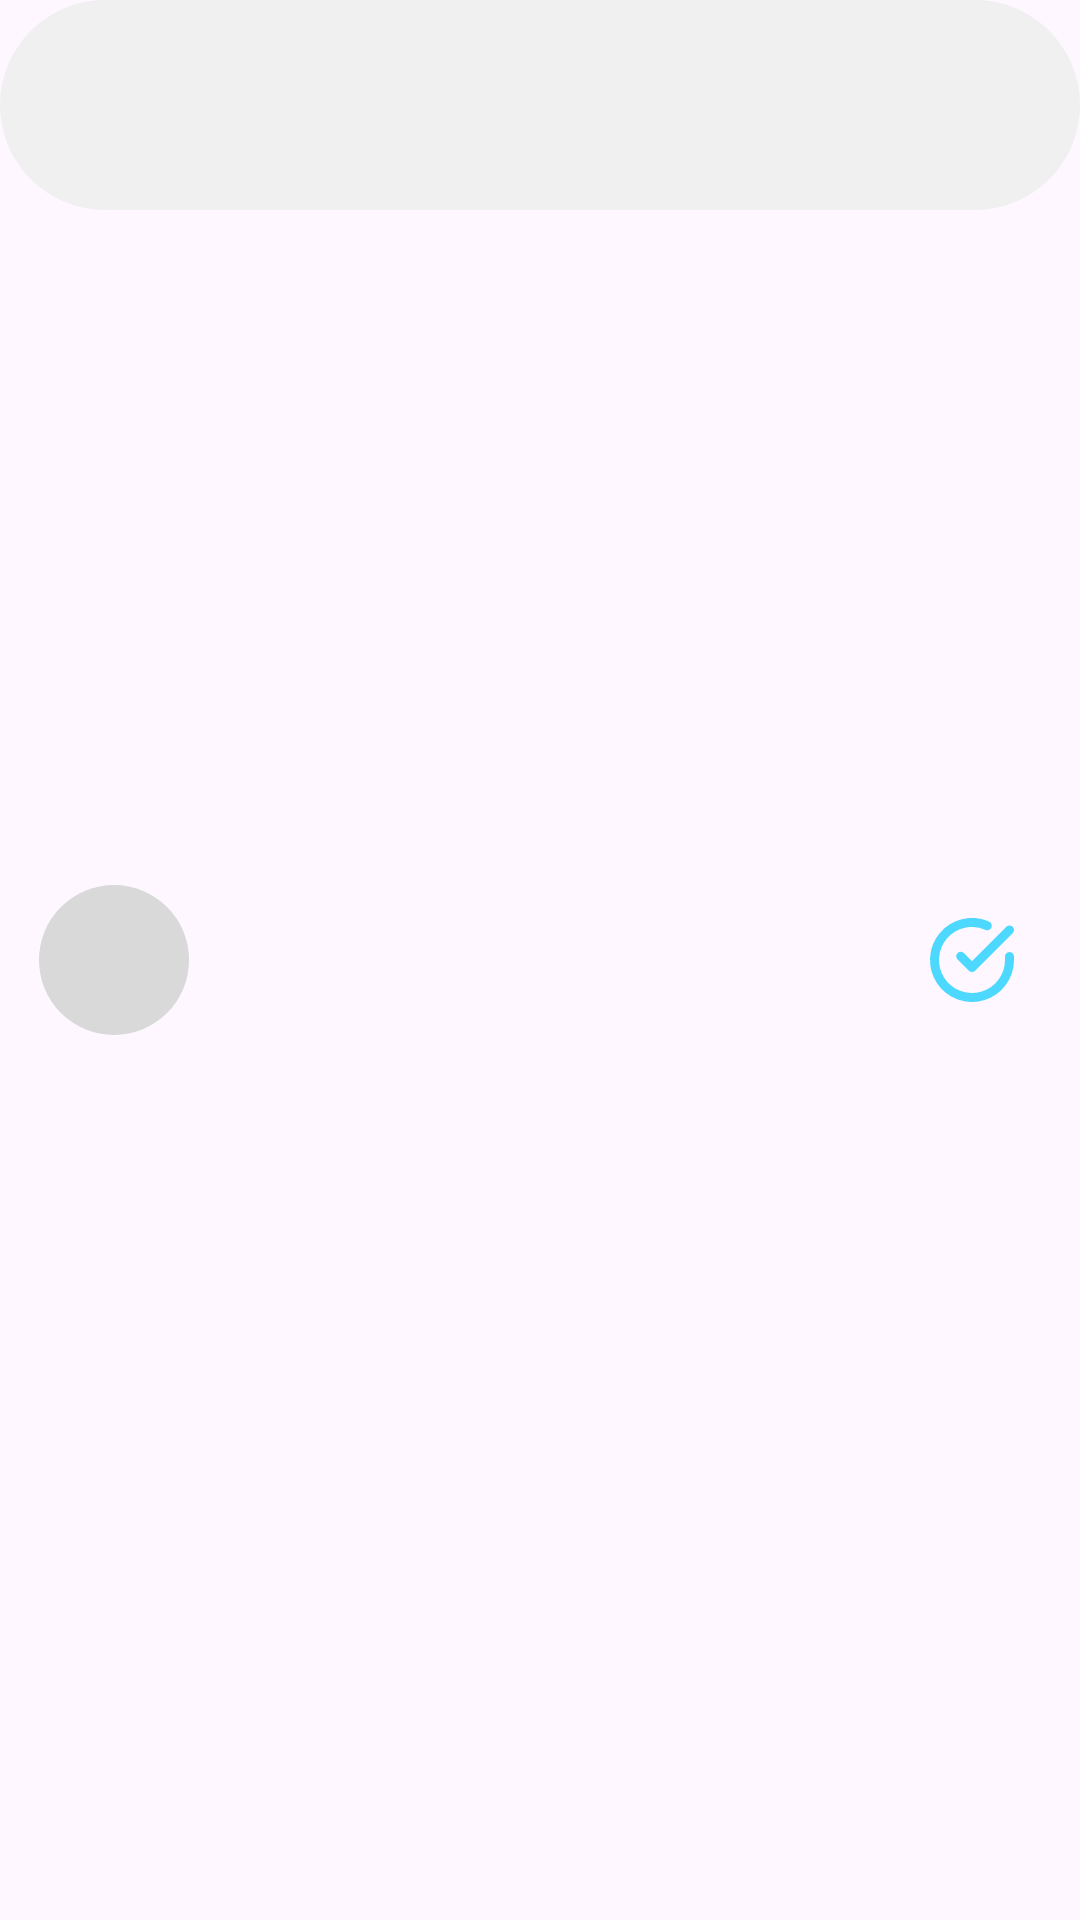

Named icons in this screenshot (1080*1920) and their bounding boxes, (x1, y1, x2, y2):
checked circle: (930, 918, 1014, 1002)
